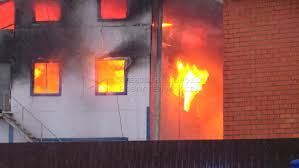fire: (162, 48, 211, 113), (93, 51, 135, 100), (33, 51, 74, 99)
